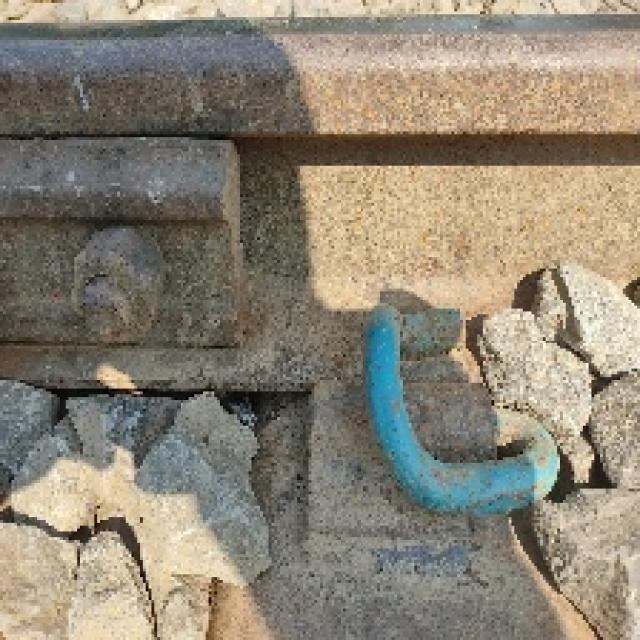Good Fasteners: (306, 309, 557, 594)
